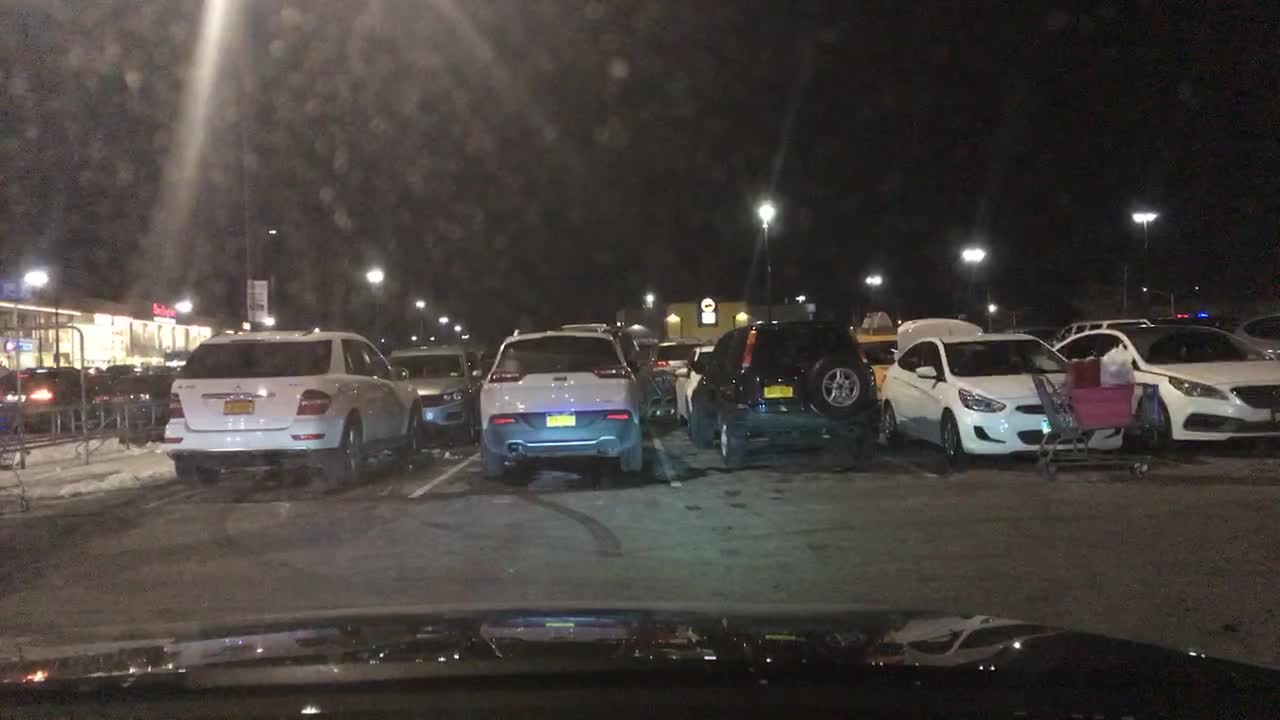car: (163, 324, 424, 485), (878, 332, 1126, 464), (686, 318, 880, 471), (1051, 324, 1279, 450), (474, 325, 644, 481), (495, 325, 656, 416), (385, 345, 473, 441), (1, 364, 81, 410), (674, 341, 714, 418), (93, 373, 168, 402), (889, 317, 978, 341), (1230, 308, 1279, 350), (653, 341, 700, 381), (1051, 318, 1156, 332), (67, 374, 109, 401), (854, 306, 896, 327), (139, 359, 181, 374), (100, 359, 142, 371)
